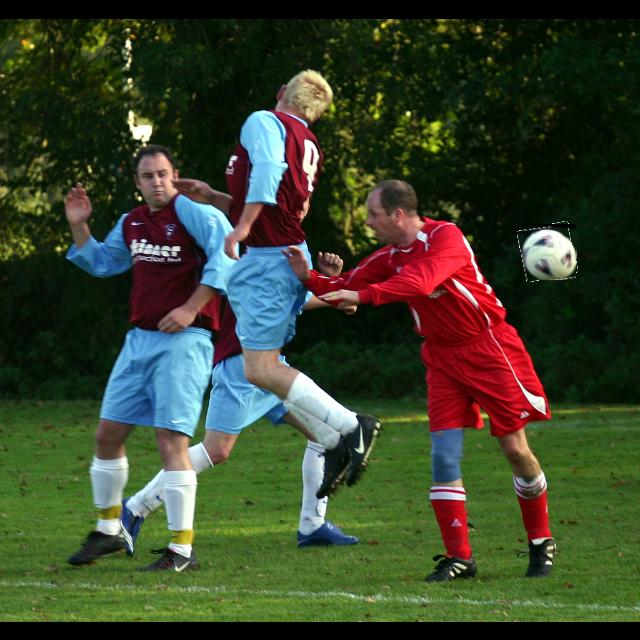Football: (520, 224, 576, 280)
